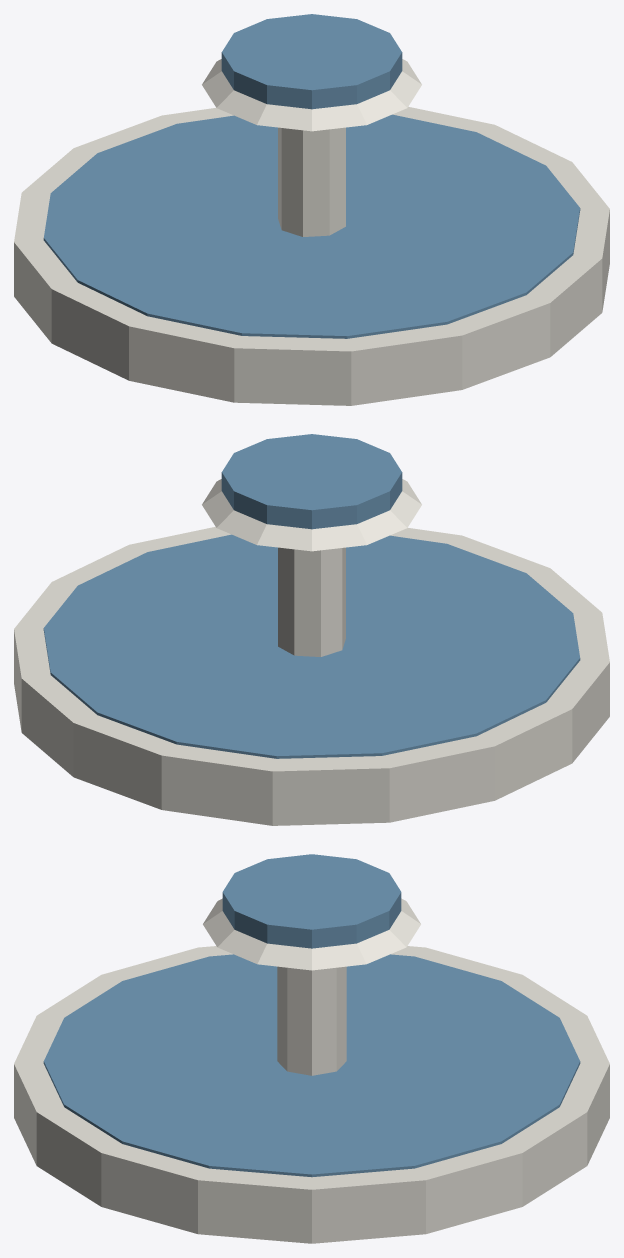
The model's file is fountain.glb.
3 views of the same model, one above another, from view 1: azimuth 30°, elevation 25°; view 2: azimuth 150°, elevation 25°; view 3: azimuth 270°, elevation 25° (orthographic).
Visible parts, largest first — view 1: fountain; view 2: fountain; view 3: fountain.
Boxes of the visible parts, box(x1,y1,x2,y2) form: fountain: box(14, 14, 609, 405); fountain: box(14, 434, 609, 825); fountain: box(14, 854, 609, 1243).
Bounding box in the file's own units: 6 × 2.51 × 6.
